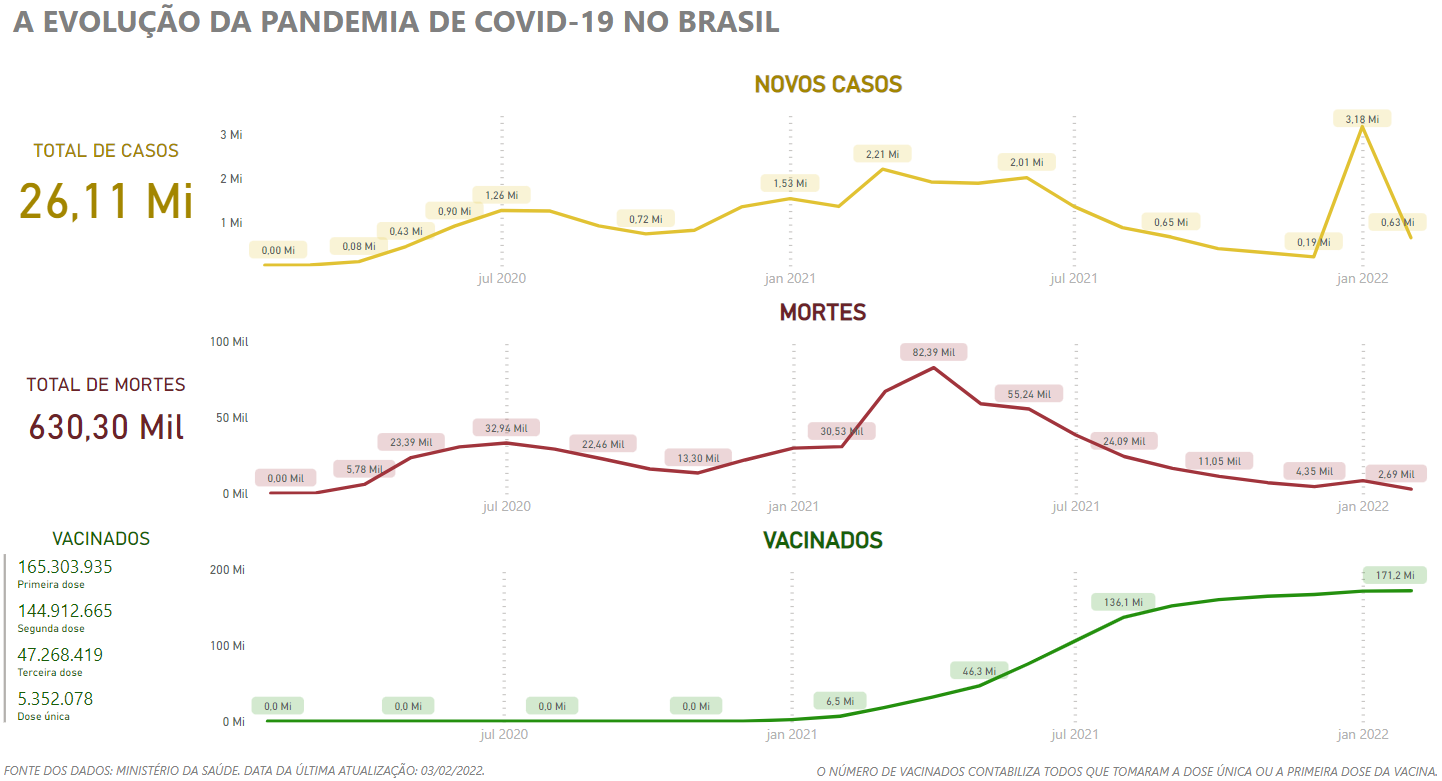

What the dashboard file says about the page in this screenshot:
{"tool":"powerbi","page":{"name":"Página 1","canvas":[1280,720],"ordinal":0},"visuals":[{"type":"lineChart","title":"NOVOS CASOS","fields":{"Category":["cases-brazil-states.mes"],"Y":["Sum(cases-brazil-states.newCases)"]},"box":[191.3,87.7,1088.4,201.9],"z":0},{"type":"lineChart","title":"MORTES","fields":{"Category":["cases-brazil-states.mes"],"Y":["Sum(cases-brazil-states.newDeaths)"]},"box":[181.5,289.6,1098.2,201.9],"z":1000},{"type":"lineChart","title":"VACINADOS","fields":{"Category":["cases-brazil-states.mes"],"Y":["Sum(cases-brazil-states.vaccinated_total)"]},"box":[181.5,491.5,1098.2,201.9],"z":2000},{"type":"textbox","box":[664,693.1,616,27.2],"z":3000},{"type":"textbox","box":[0,19.5,704.9,49.6],"z":4000},{"type":"card","title":"TOTAL DE CASOS","fields":{"Values":["Sum(cases-brazil-states.newCases)"]},"box":[0,147.9,191.3,80.6],"z":5000},{"type":"card","title":"TOTAL DE MORTES","fields":{"Values":["Sum(cases-brazil-states.newDeaths)"]},"box":[0,355.1,191.3,70.8],"z":6000},{"type":"multiRowCard","title":"VACINADOS","fields":{"Values":["Sum(cases-brazil-states.vaccinated)","Sum(cases-brazil-states.vaccinated_second)","Sum(cases-brazil-states.vaccinated_third)","Sum(cases-brazil-states.vaccinated_single)"]},"box":[0,491.5,182.4,201.9],"z":7000},{"type":"textbox","box":[0,692.5,615.5,27.5],"z":8000}]}

Visuals, with their boxes on the page's 1280x720 design canvas (x1, y1, x2, y2). These are canvas units, not pixel positions in the 1442x781 screenshot, which may show the page scaled, cropped or inside an application window:
"NOVOS CASOS" lineChart: crop(191, 88, 1280, 290)
"MORTES" lineChart: crop(182, 290, 1280, 492)
"VACINADOS" lineChart: crop(182, 492, 1280, 693)
textbox: crop(664, 693, 1280, 720)
textbox: crop(0, 20, 705, 69)
"TOTAL DE CASOS" card: crop(0, 148, 191, 228)
"TOTAL DE MORTES" card: crop(0, 355, 191, 426)
"VACINADOS" multiRowCard: crop(0, 492, 182, 693)
textbox: crop(0, 692, 616, 720)
